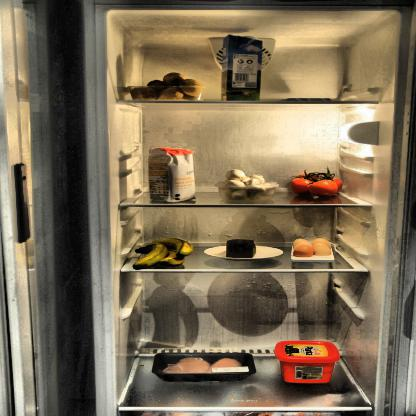banana: (132, 237, 195, 270)
butter: (274, 340, 340, 387)
cheese: (224, 237, 258, 258)
chicken: (162, 355, 252, 376)
chocolate: (280, 98, 337, 102)
eggs: (292, 237, 334, 259)
milk: (221, 35, 267, 103)
mushrooms: (217, 166, 276, 201)
potato: (128, 72, 204, 100)
tomato: (290, 172, 346, 198)
